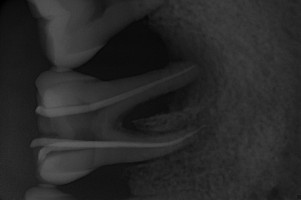Dental Caries: (119, 16, 213, 133)
